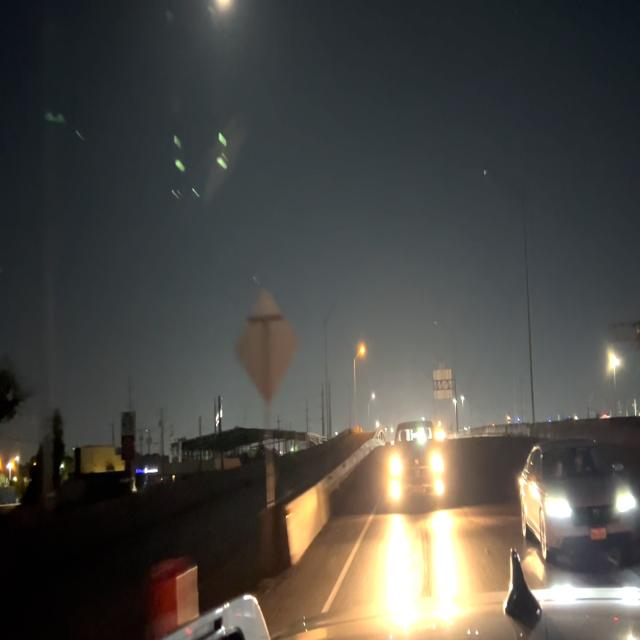back-of-sign: (235, 294, 301, 403)
